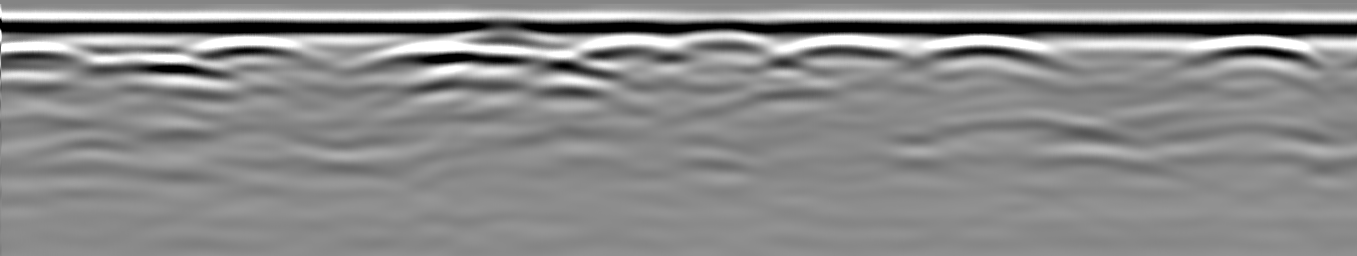pipe: (433, 20, 573, 50)
steel: (1175, 37, 1329, 75), (762, 35, 923, 70), (358, 42, 536, 73), (911, 36, 1065, 70), (175, 36, 321, 71), (567, 33, 691, 67), (1, 37, 88, 66)
